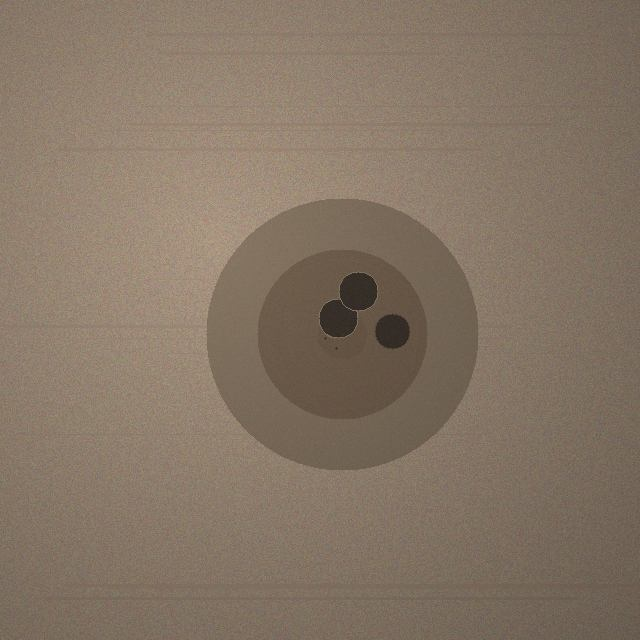shrinkage: (206, 198, 478, 470)
